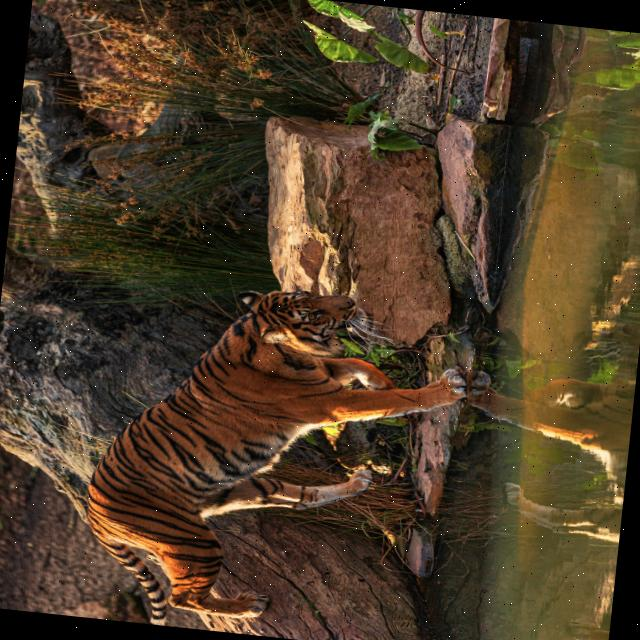Tiger: (72, 267, 477, 640)
